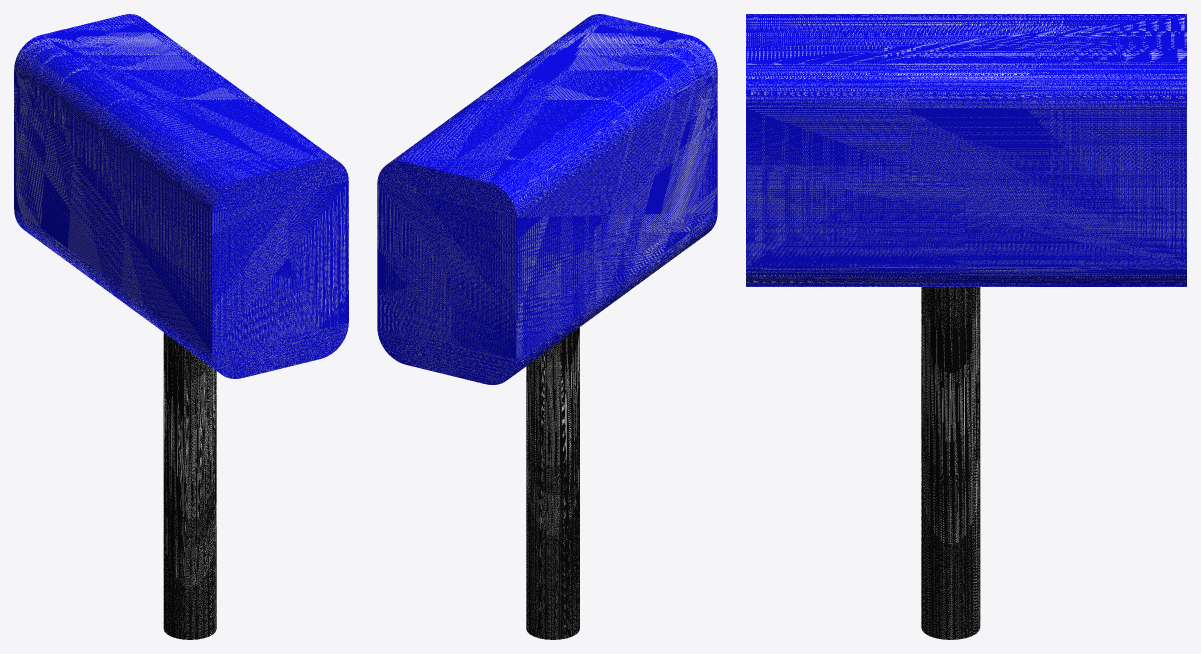
The model's file is mallet_04_origin_gt_5.dae.
3 views of the same model, side by side, from view 1: azimuth 30°, elevation 25°; view 2: azimuth 150°, elevation 25°; view 3: azimuth 270°, elevation 25° (orthographic). The views are drawn at different scales.
Visible parts, largest first — view 1: Mallet (×2); view 2: Mallet (×2); view 3: Mallet (×2).
Part boxes in pixels (x1,y1,x2,y2): Mallet (×2): [14, 14, 348, 639]; Mallet (×2): [377, 14, 717, 639]; Mallet (×2): [746, 14, 1186, 639].
Bounding box in the file's own units: 2.67 × 6.67 × 9.8.
